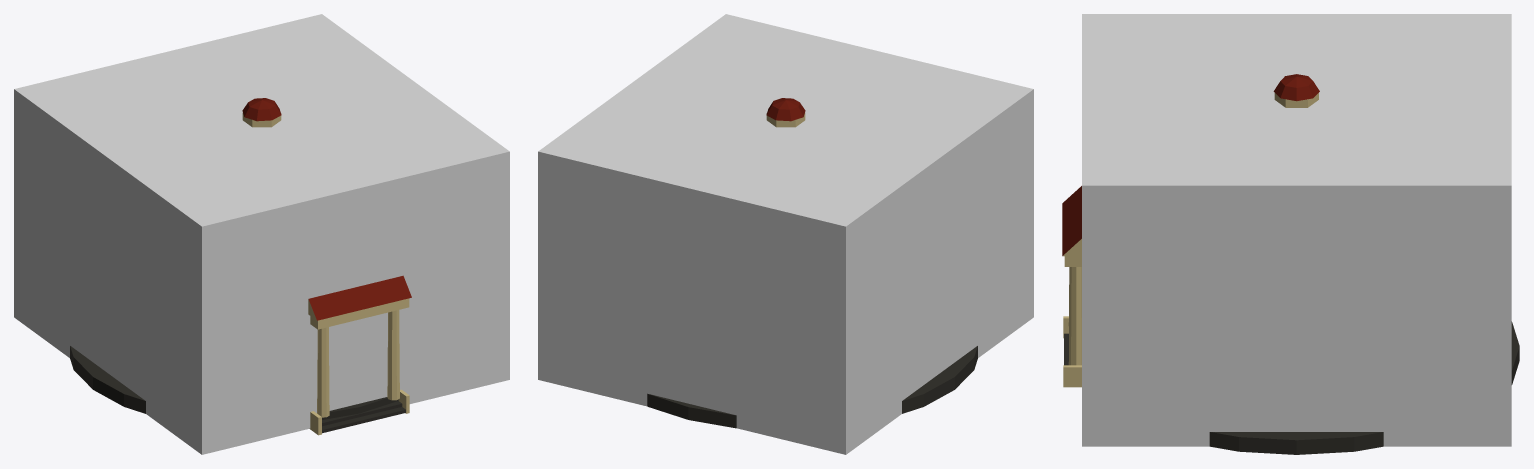
Rendered from B37_rotunda_historic.glb.
The picture shows the model from 3 angles, left to right: view 1: azimuth 30°, elevation 25°; view 2: azimuth 150°, elevation 25°; view 3: azimuth 270°, elevation 25°; orthographic projection. The views are drawn at different scales.
Visible parts, largest first — view 1: COL_Main, LOD0; view 2: COL_Main, LOD0; view 3: COL_Main, LOD0.
Boxes of the visible parts, x1,y1,x2,y2 form: COL_Main: (14, 14, 509, 454); LOD0: (70, 98, 411, 435); COL_Main: (538, 14, 1033, 454); LOD0: (647, 98, 977, 428); COL_Main: (1082, 14, 1511, 446); LOD0: (1062, 74, 1519, 454).
Size of what is drawn, in the model's own units: 19.2 by 13.54 by 19.7.
